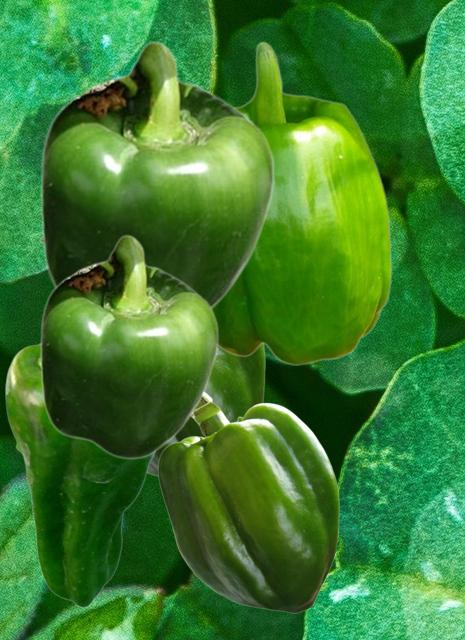bell_pepper: (39, 40, 274, 308), (214, 41, 391, 365), (39, 236, 264, 476), (39, 234, 218, 459), (4, 342, 155, 607), (157, 392, 338, 612)
